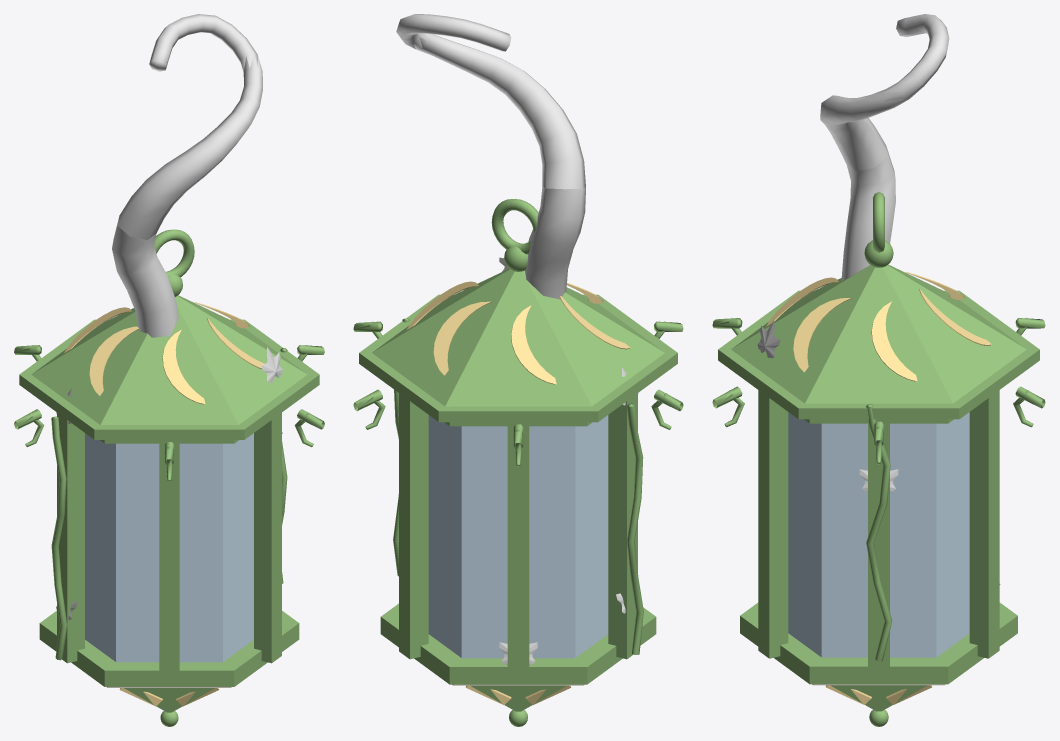
The model's file is LanternWisp.glb.
3 views of the same model, side by side, from view 1: azimuth 30°, elevation 25°; view 2: azimuth 150°, elevation 25°; view 3: azimuth 270°, elevation 25° (orthographic). The views are drawn at different scales.
Visible parts, largest first — view 1: Vine, Glass, TailTailGreen2, TailTailGreen, Glow, TailTailGreen3; view 2: Vine, Glass, TailTailGreen2, TailTailGreen, Glow, TailTailGreen3; view 3: Vine, Glass, Glow, TailTailGreen2, TailTailGreen, TailTailGreen3.
Boxes of the visible parts, <box> form: Vine: <box>14,229,324,726</box>; Glass: <box>85,433,253,662</box>; TailTailGreen2: <box>118,54,262,239</box>; TailTailGreen: <box>112,218,178,337</box>; Glow: <box>64,302,264,706</box>; TailTailGreen3: <box>149,14,258,71</box>; Vine: <box>353,199,683,726</box>; Glass: <box>428,415,608,658</box>; TailTailGreen2: <box>414,33,585,189</box>; TailTailGreen: <box>525,187,585,299</box>; Glow: <box>407,281,630,704</box>; TailTailGreen3: <box>396,14,511,51</box>; Vine: <box>712,192,1045,726</box>; Glass: <box>788,412,969,657</box>; Glow: <box>766,272,991,704</box>; TailTailGreen2: <box>820,85,908,171</box>; TailTailGreen: <box>841,146,895,280</box>; TailTailGreen3: <box>882,14,949,106</box>.
Size of the model in its own units: 1.56 by 3.28 by 1.37.
